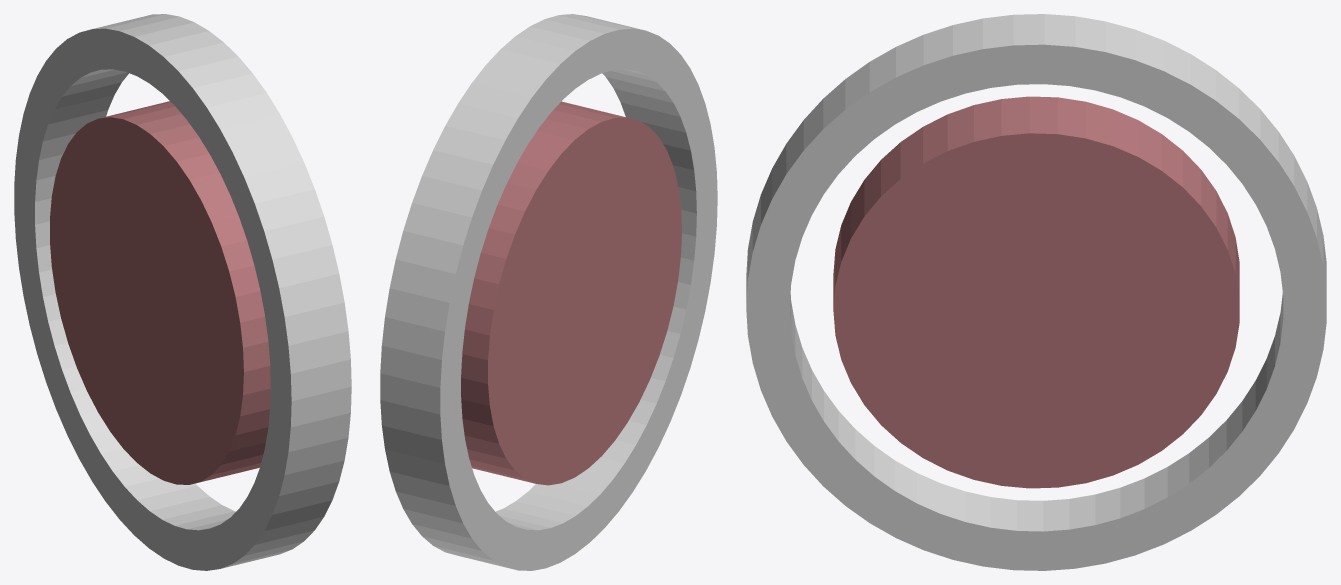
Rendered from pin_religioso.glb.
3 renders of one model, left to right at view 1: azimuth 30°, elevation 25°; view 2: azimuth 150°, elevation 25°; view 3: azimuth 270°, elevation 25°, orthographic. The views are drawn at different scales.
Visible parts, largest first — view 1: Mesh_Mesh_head_geo.001_lambert2SG.001; view 2: Mesh_Mesh_head_geo.001_lambert2SG.001; view 3: Mesh_Mesh_head_geo.001_lambert2SG.001.
Boxes of the visible parts, left/top/right/bottom form: Mesh_Mesh_head_geo.001_lambert2SG.001: left=14, top=14, right=351, bottom=570; Mesh_Mesh_head_geo.001_lambert2SG.001: left=380, top=14, right=717, bottom=570; Mesh_Mesh_head_geo.001_lambert2SG.001: left=746, top=14, right=1326, bottom=570.
Bounding box in the file's own units: 6 × 39.99 × 39.97.
